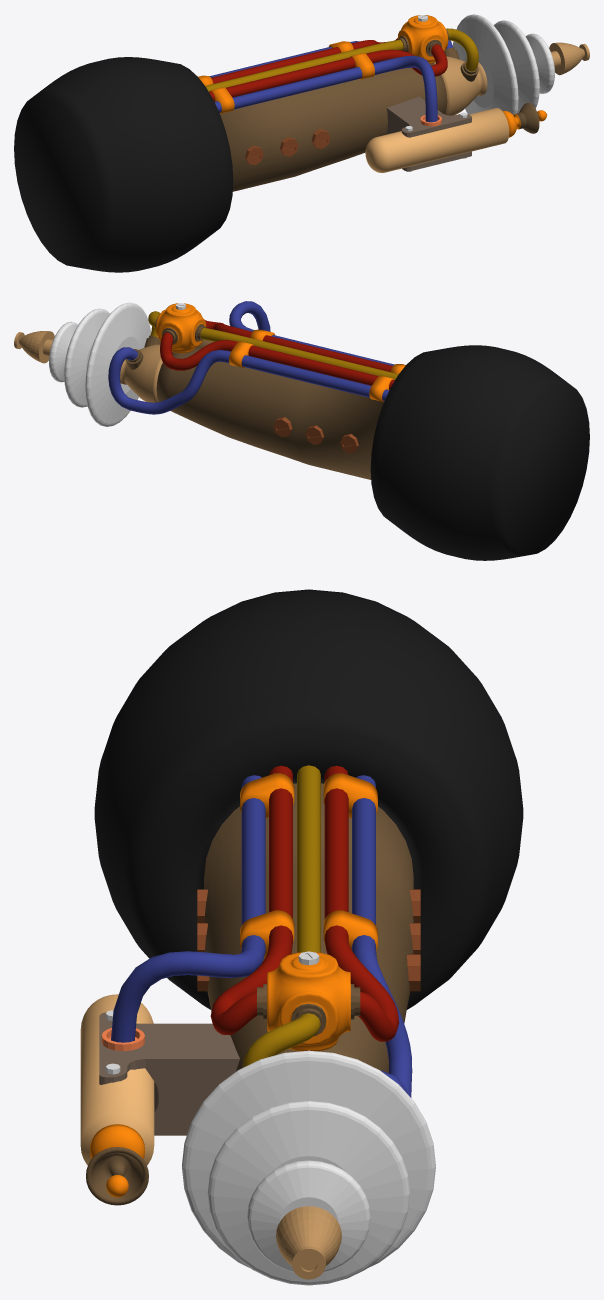
File: Deco-Bonus-A.fbx
3 views of the same model, one above another, from view 1: azimuth 30°, elevation 25°; view 2: azimuth 150°, elevation 25°; view 3: azimuth 270°, elevation 25° (orthographic). The views are drawn at different scales.
Parts seen in each view (by area): view 1: Deco-Bonus-A; view 2: Deco-Bonus-A; view 3: Deco-Bonus-A.
Part boxes in pixels (bbox=[...]): Deco-Bonus-A: bbox=[14, 14, 589, 272]; Deco-Bonus-A: bbox=[14, 301, 589, 560]; Deco-Bonus-A: bbox=[80, 589, 523, 1285].
Bounding box in the file's own units: 68936 × 24248 × 25034.
